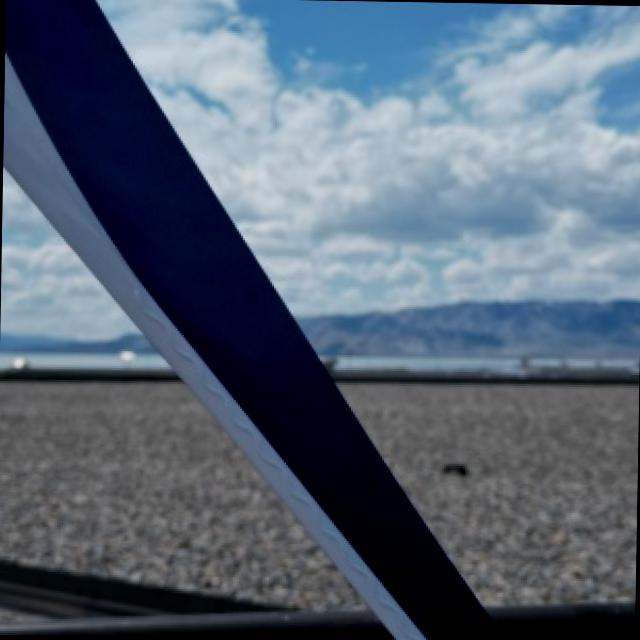healthy: (3, 0, 500, 640)
